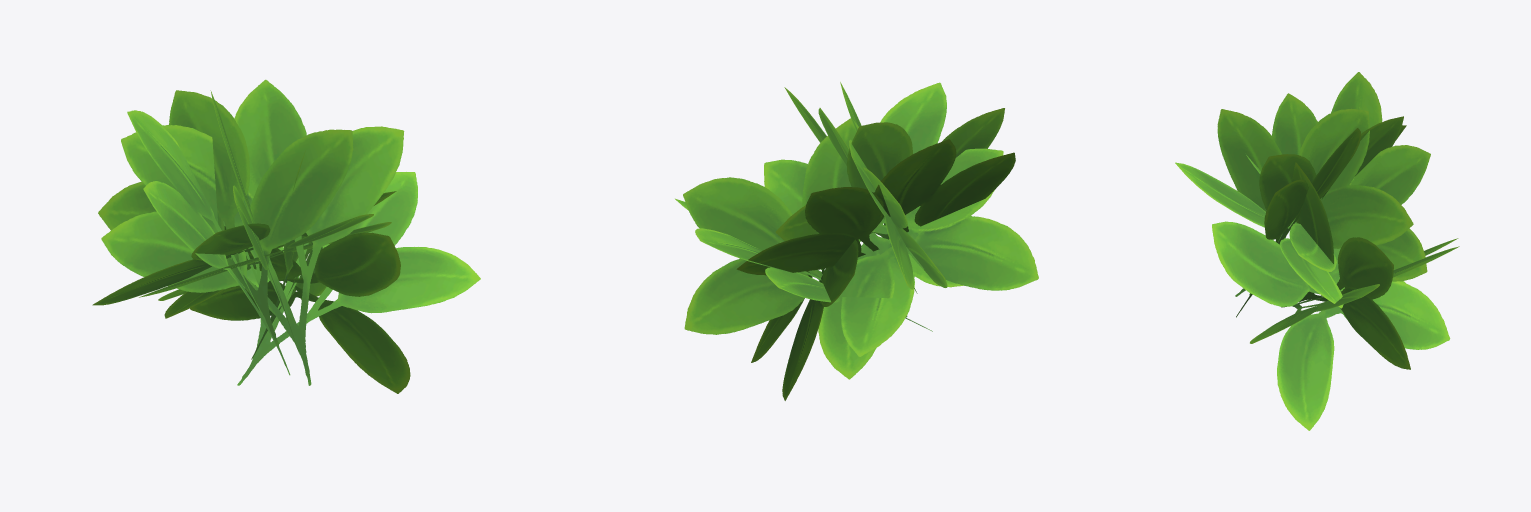
The model's file is m_city_basil_01.fbx.
3 views of the same model, side by side, from view 1: azimuth 30°, elevation 25°; view 2: azimuth 150°, elevation 25°; view 3: azimuth 270°, elevation 25° (orthographic). The views are drawn at different scales.
Visible parts, largest first — view 1: m_city_basil_01; view 2: m_city_basil_01; view 3: m_city_basil_01.
Part boxes in pixels (x1,y1,x2,y2): m_city_basil_01: [92, 79, 480, 393]; m_city_basil_01: [675, 82, 1038, 400]; m_city_basil_01: [1175, 72, 1459, 430].
Size of the model in its own units: 0.4436 by 0.401 by 0.3578.
